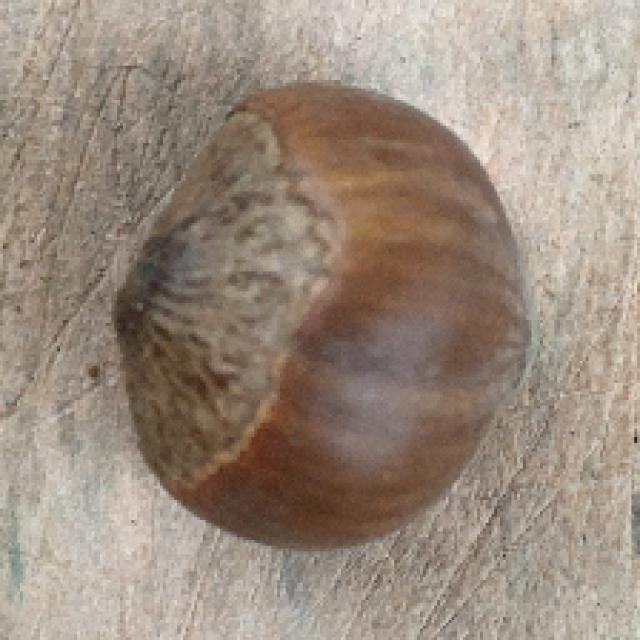qualityHazelnut: (106, 75, 538, 554)
